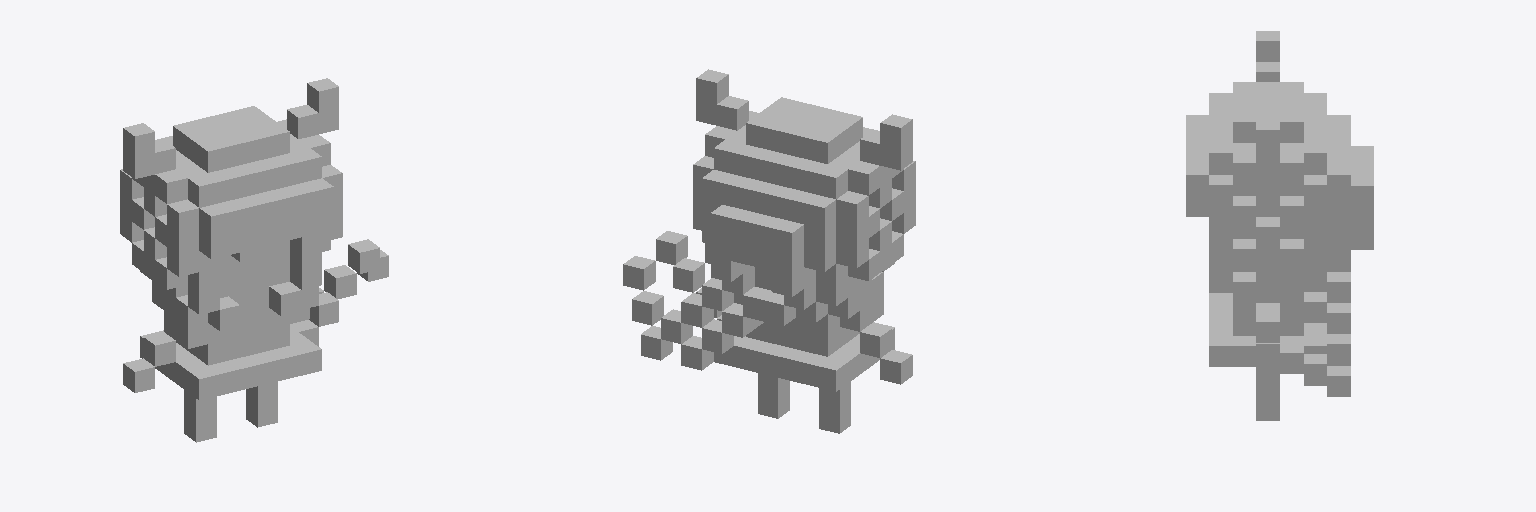
File: chr_knight.obj
The picture shows the model from 3 angles: view 1: azimuth 30°, elevation 25°; view 2: azimuth 150°, elevation 25°; view 3: azimuth 270°, elevation 25°; orthographic projection.
Visible parts, largest first — view 1: object 1; view 2: object 1; view 3: object 1.
Part boxes in pixels (bbox=[...]): object 1: bbox=[120, 78, 388, 442]; object 1: bbox=[623, 69, 915, 433]; object 1: bbox=[1186, 31, 1373, 420].
Bounding box in the file's own units: 1.3 × 1.5 × 0.8.